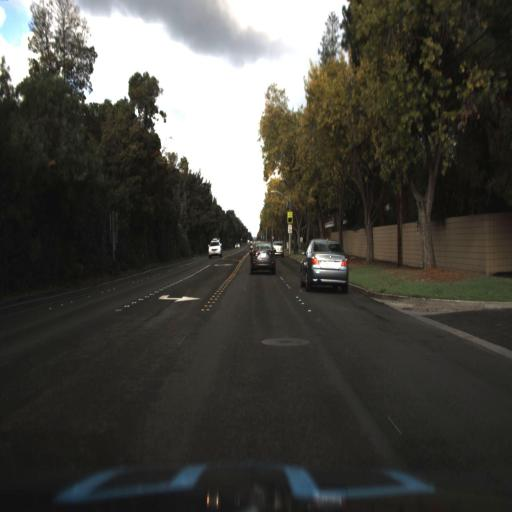car: (295, 234, 358, 293), (247, 239, 279, 279), (204, 236, 227, 259), (270, 236, 284, 258)
